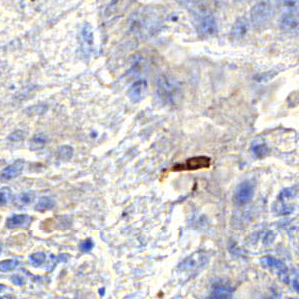Lymphocyte: (170, 154, 214, 173)
